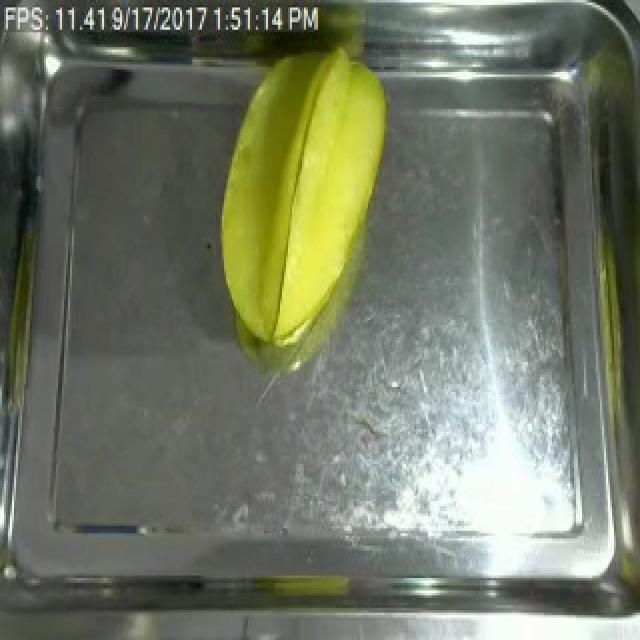fruit: (204, 37, 396, 362)
